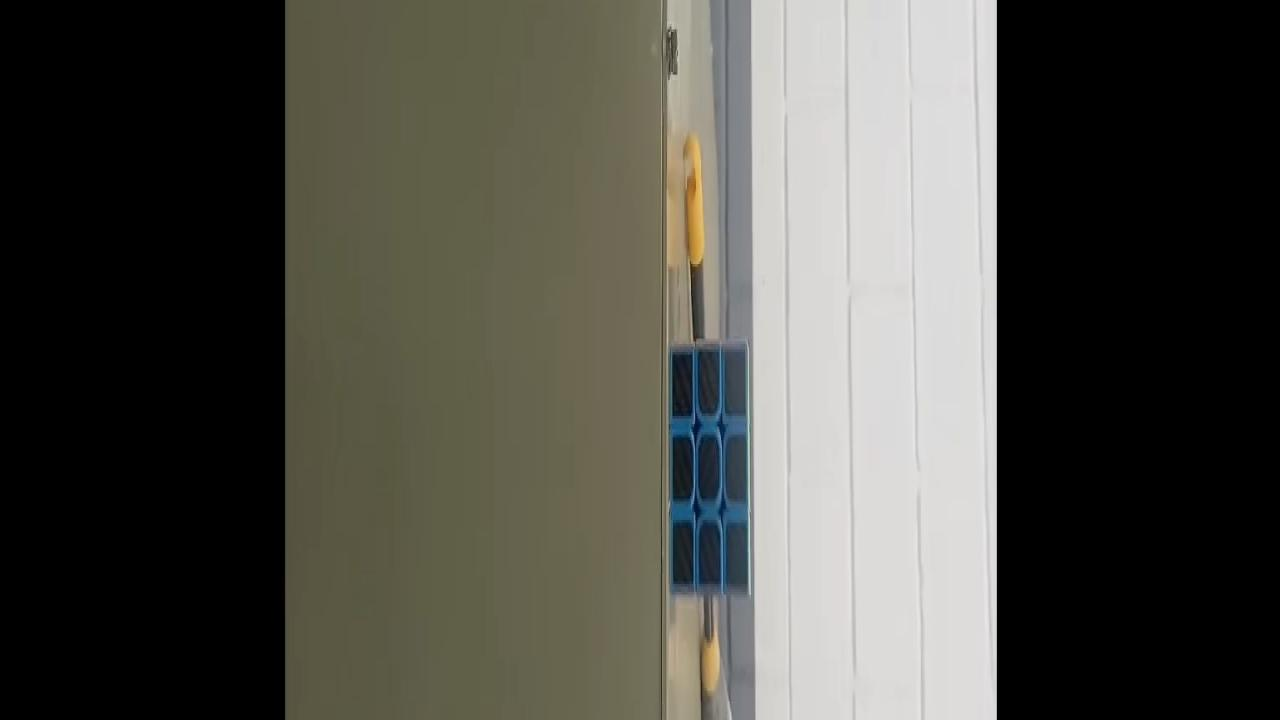Cube: (668, 334, 752, 600)
